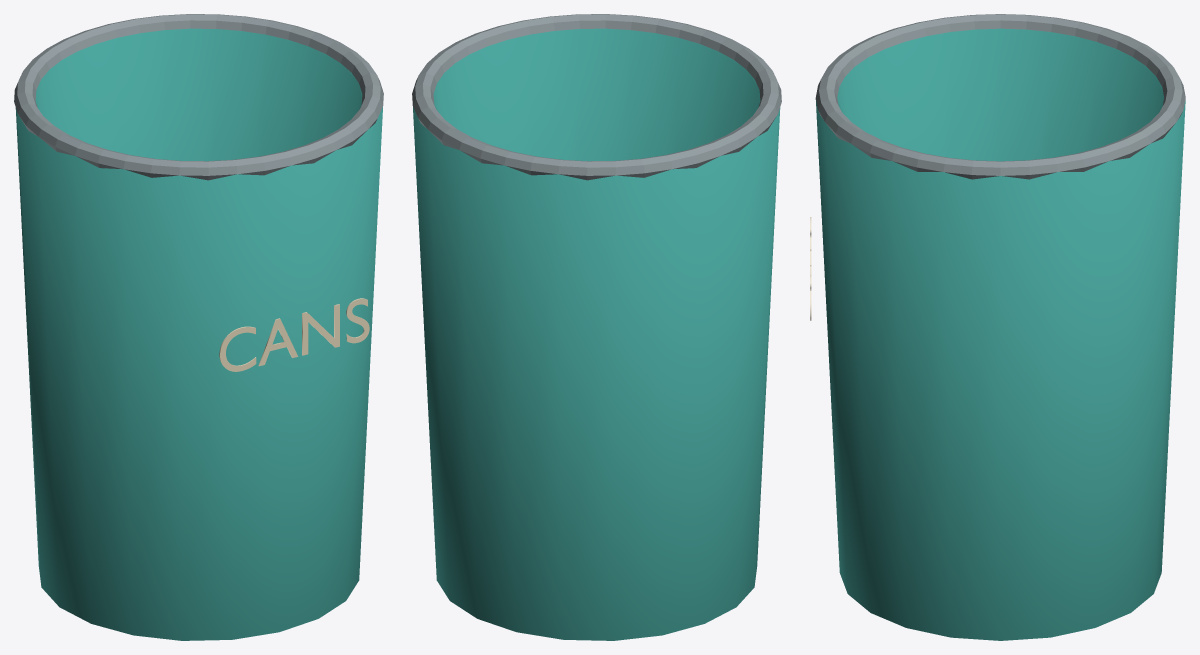
File: AH03_RecyclingBin.fbx
The picture shows the model from 3 angles, left to right: view 1: azimuth 30°, elevation 25°; view 2: azimuth 150°, elevation 25°; view 3: azimuth 270°, elevation 25°; orthographic projection.
Visible parts, largest first — view 1: AH03_RecyclingBin_AH03_Mint, AH03_RecyclingBin_AH03_Metal, AH03_RecyclingBin_AH03_Cream; view 2: AH03_RecyclingBin_AH03_Mint, AH03_RecyclingBin_AH03_Metal; view 3: AH03_RecyclingBin_AH03_Mint, AH03_RecyclingBin_AH03_Metal.
Boxes of the visible parts, box(x1,y1,x2,y2) form: AH03_RecyclingBin_AH03_Mint: box(15, 28, 382, 640); AH03_RecyclingBin_AH03_Metal: box(14, 14, 383, 180); AH03_RecyclingBin_AH03_Cream: box(219, 298, 369, 371); AH03_RecyclingBin_AH03_Mint: box(413, 28, 780, 640); AH03_RecyclingBin_AH03_Metal: box(412, 14, 781, 180); AH03_RecyclingBin_AH03_Mint: box(815, 28, 1185, 640); AH03_RecyclingBin_AH03_Metal: box(815, 14, 1185, 179).
Bounding box in the file's own units: 60 × 86.75 × 60.9.
